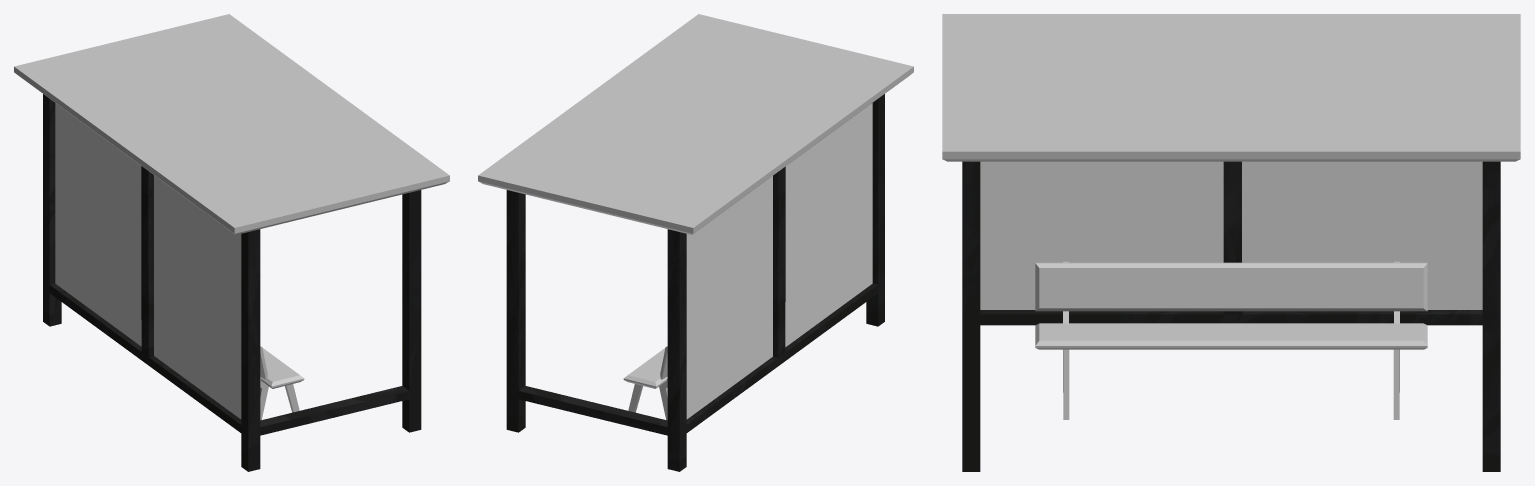
File: bus_stop.fbx
3 renders of one model, left to right at view 1: azimuth 30°, elevation 25°; view 2: azimuth 150°, elevation 25°; view 3: azimuth 270°, elevation 25°, orthographic. The views are drawn at different scales.
Parts seen in each view (by area): view 1: roof, glass, metal support, seat; view 2: roof, glass, metal support, seat; view 3: roof, glass, seat, metal support.
Part boxes in pixels (bbox=[...]): roof: bbox=[14, 14, 449, 234]; glass: bbox=[55, 103, 241, 419]; metal support: bbox=[43, 94, 421, 471]; seat: bbox=[260, 346, 304, 420]; roof: bbox=[478, 14, 913, 234]; glass: bbox=[686, 103, 872, 419]; metal support: bbox=[506, 94, 884, 471]; seat: bbox=[623, 346, 667, 420]; roof: bbox=[942, 14, 1520, 161]; glass: bbox=[980, 161, 1482, 309]; seat: bbox=[1035, 261, 1427, 419]; metal support: bbox=[962, 161, 1500, 471].
Size of the model in its own units: 451 by 510 by 800.
